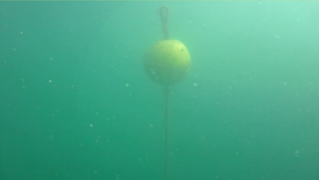buoy: (142, 38, 191, 86)
